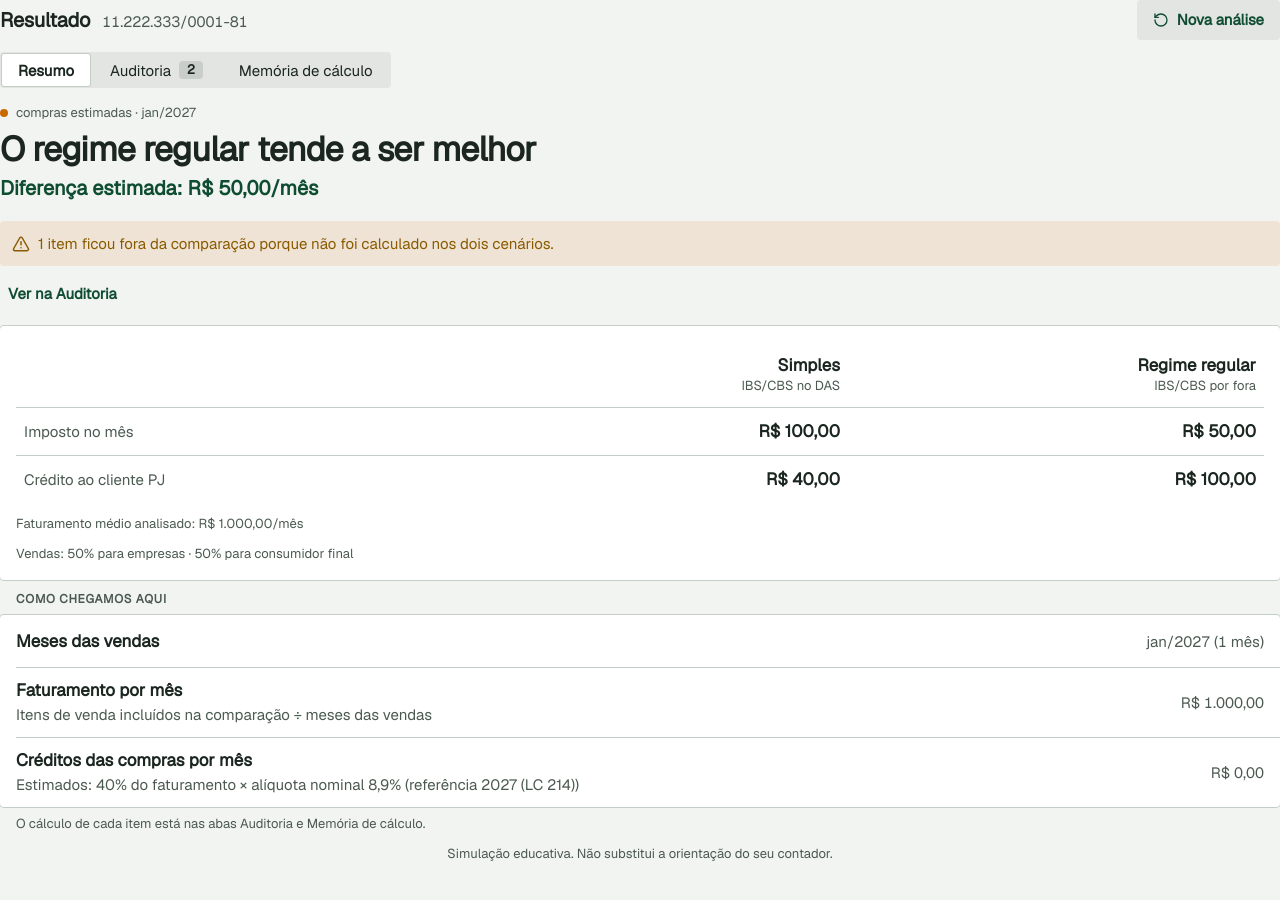
it: Resultado › busca e filtros da Auditoria sobrevivem à troca de aba
Click the tab "Auditoria 2" at (156, 70), box [94,54,219,86]
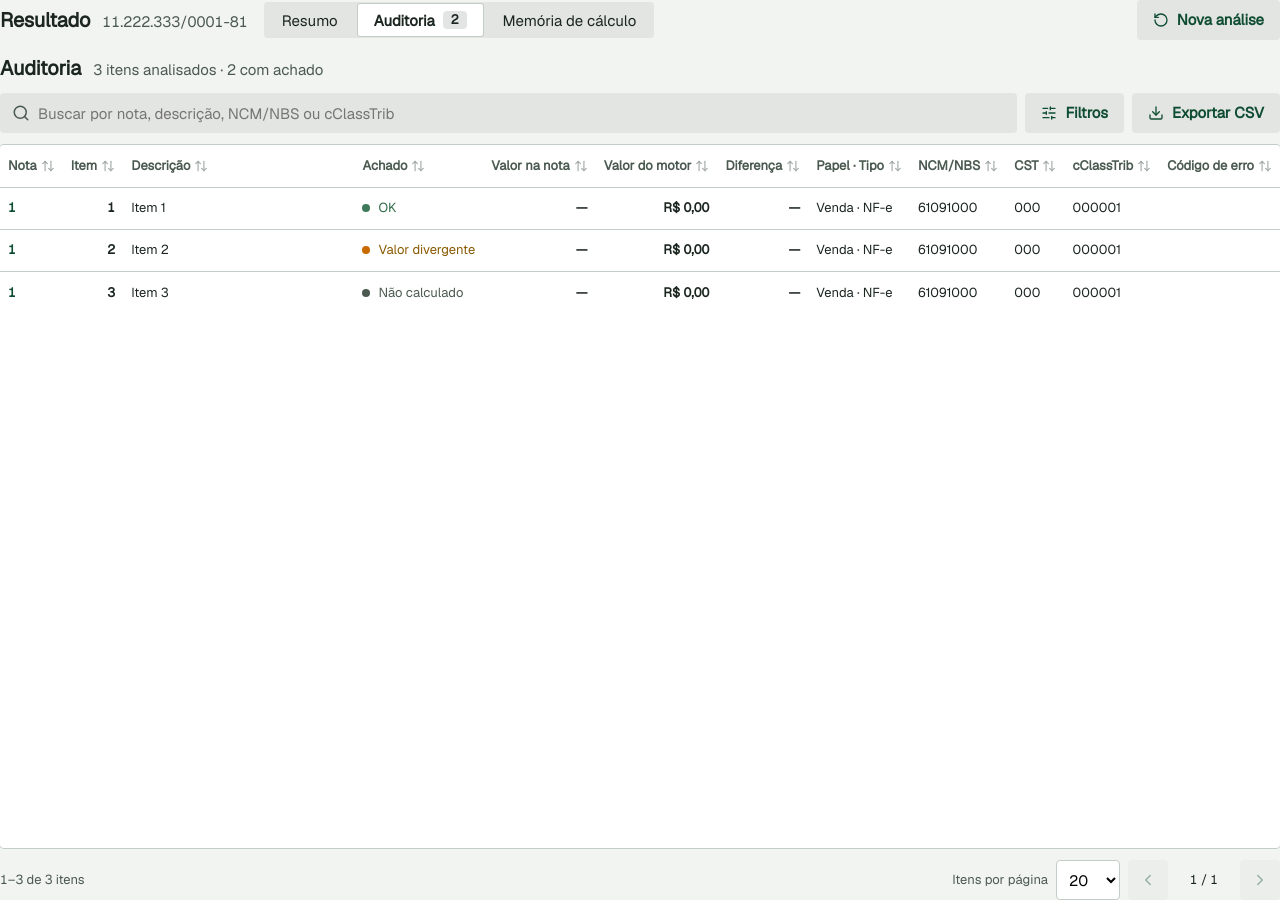
Type "Item 2" into the search field at (522, 113), box [38,93,1005,133]
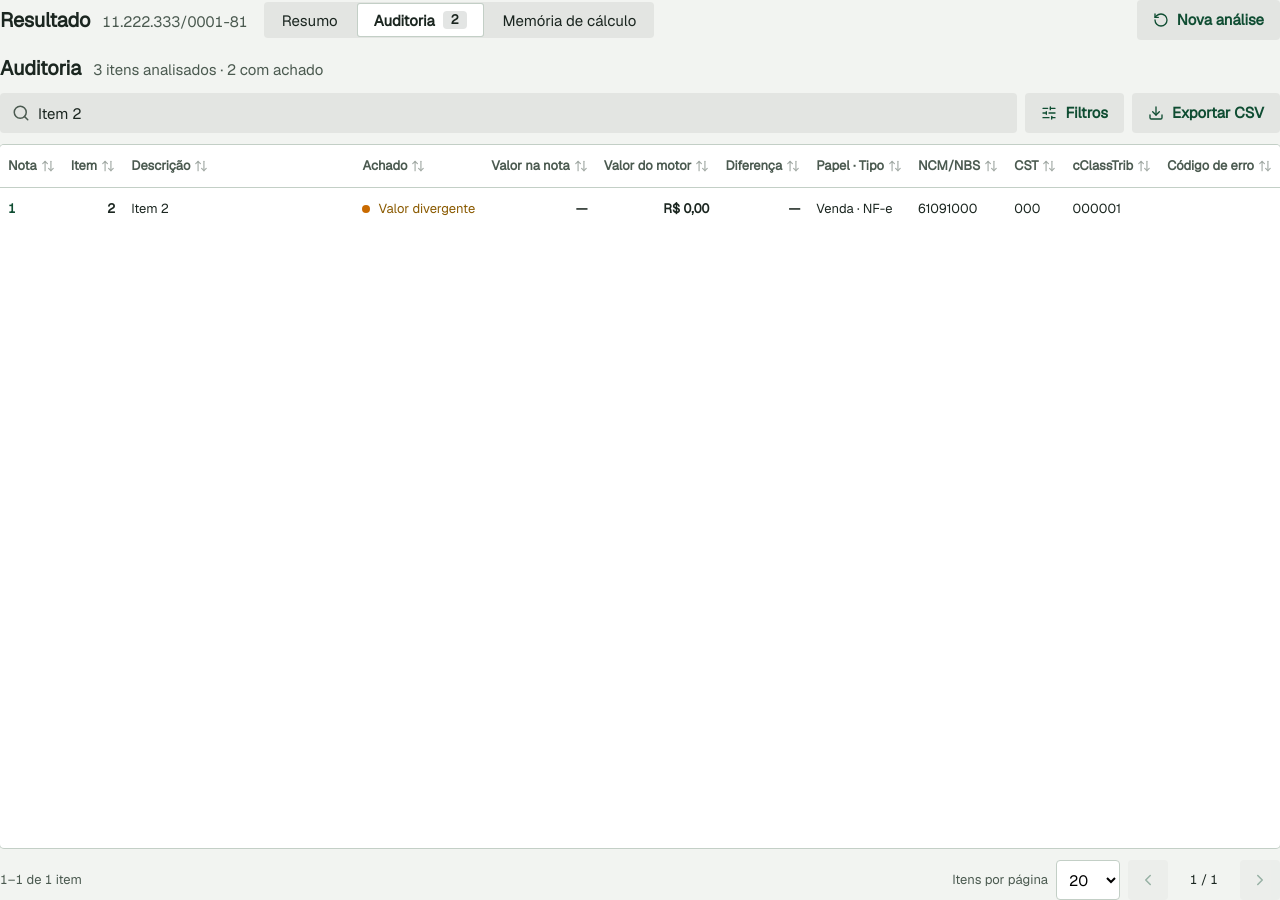
Click the tab "Resumo" at (310, 20), box [266,4,354,36]
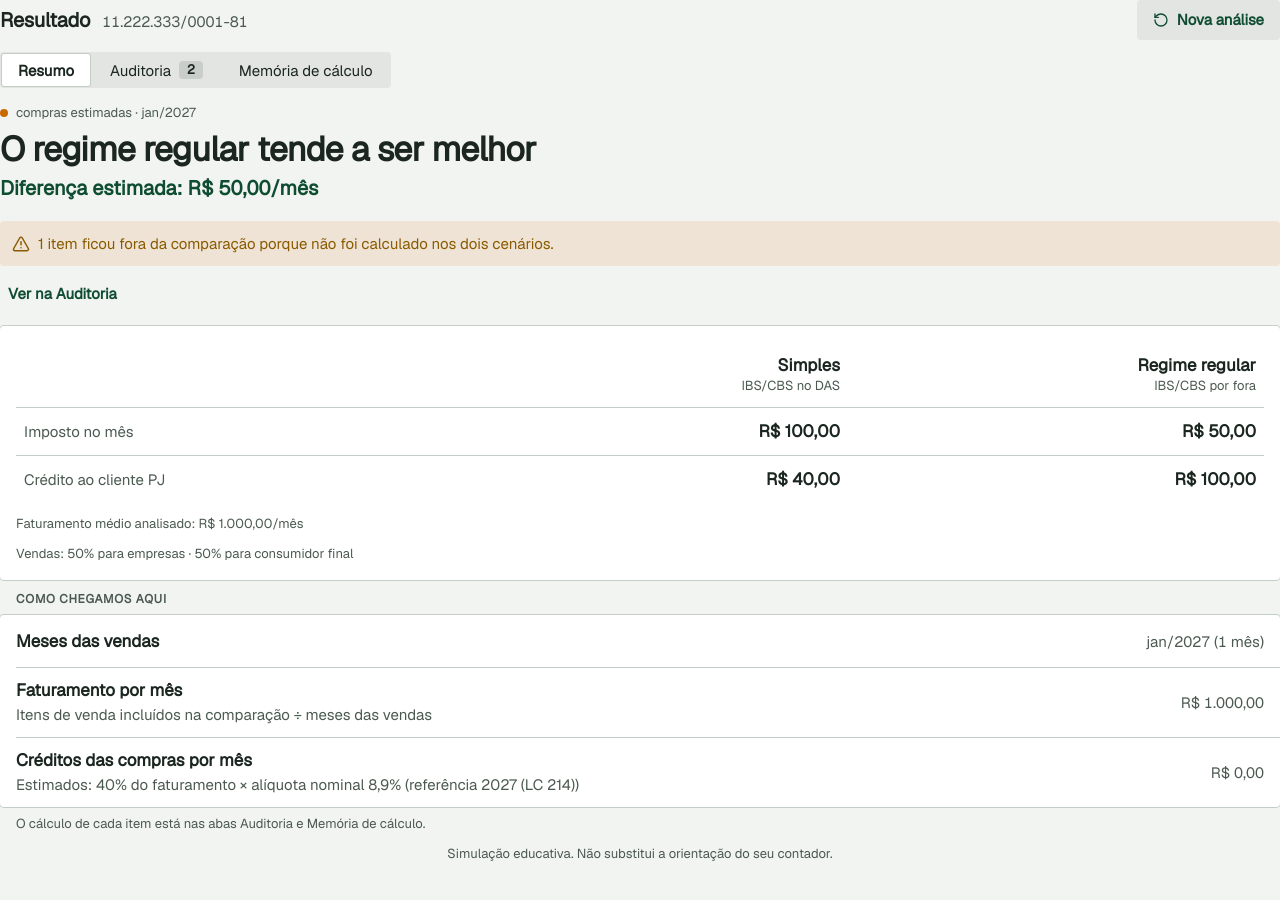
Click the tab "Auditoria 2" at (156, 70), box [94,54,219,86]
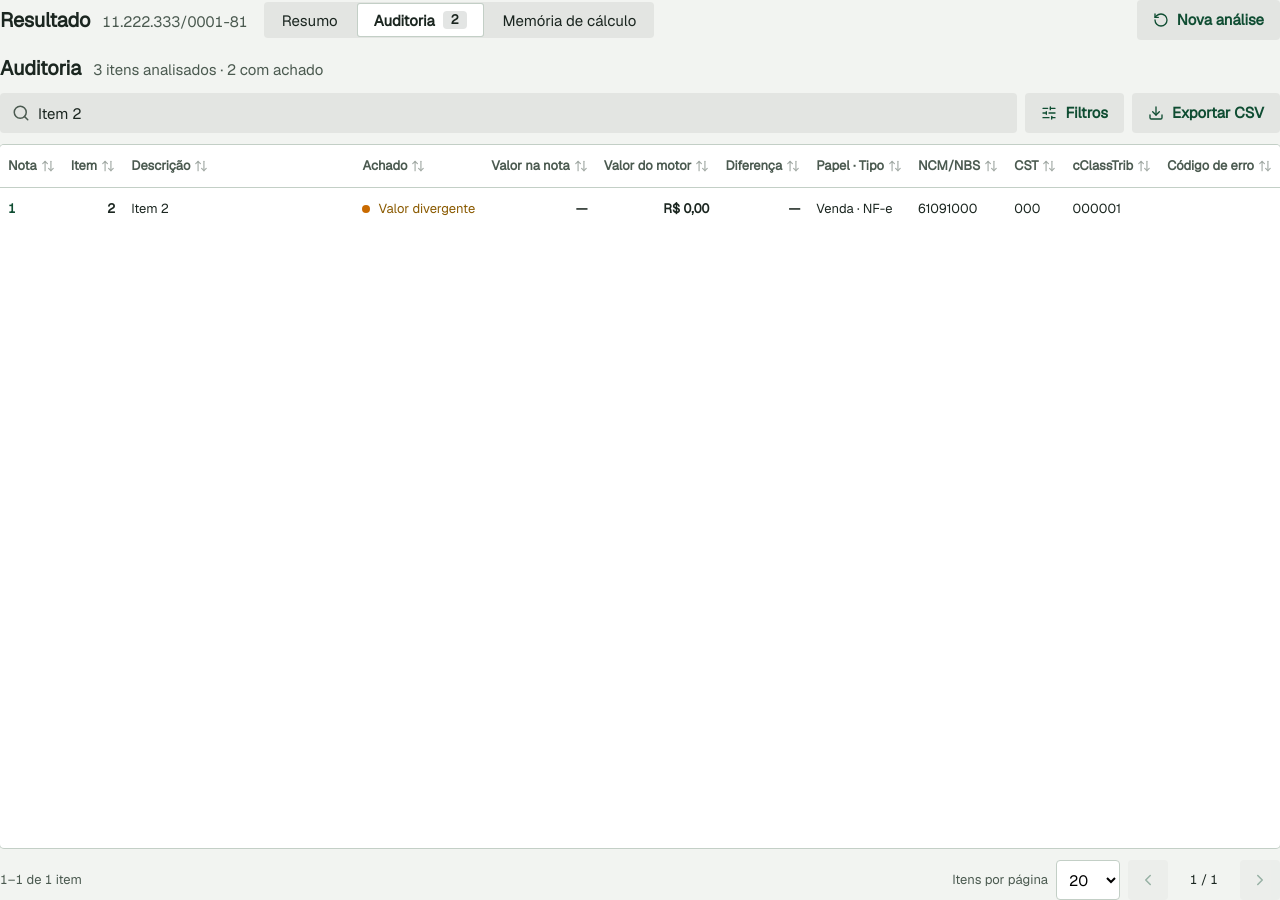
expect the search field holds "Item 2": met, box [38,93,1005,133]
